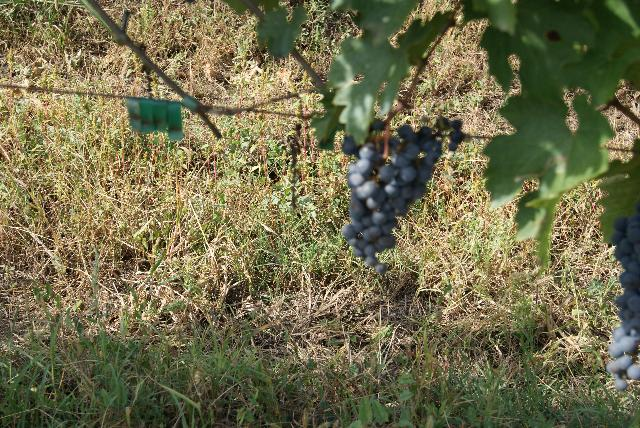grapes: (342, 118, 466, 274)
